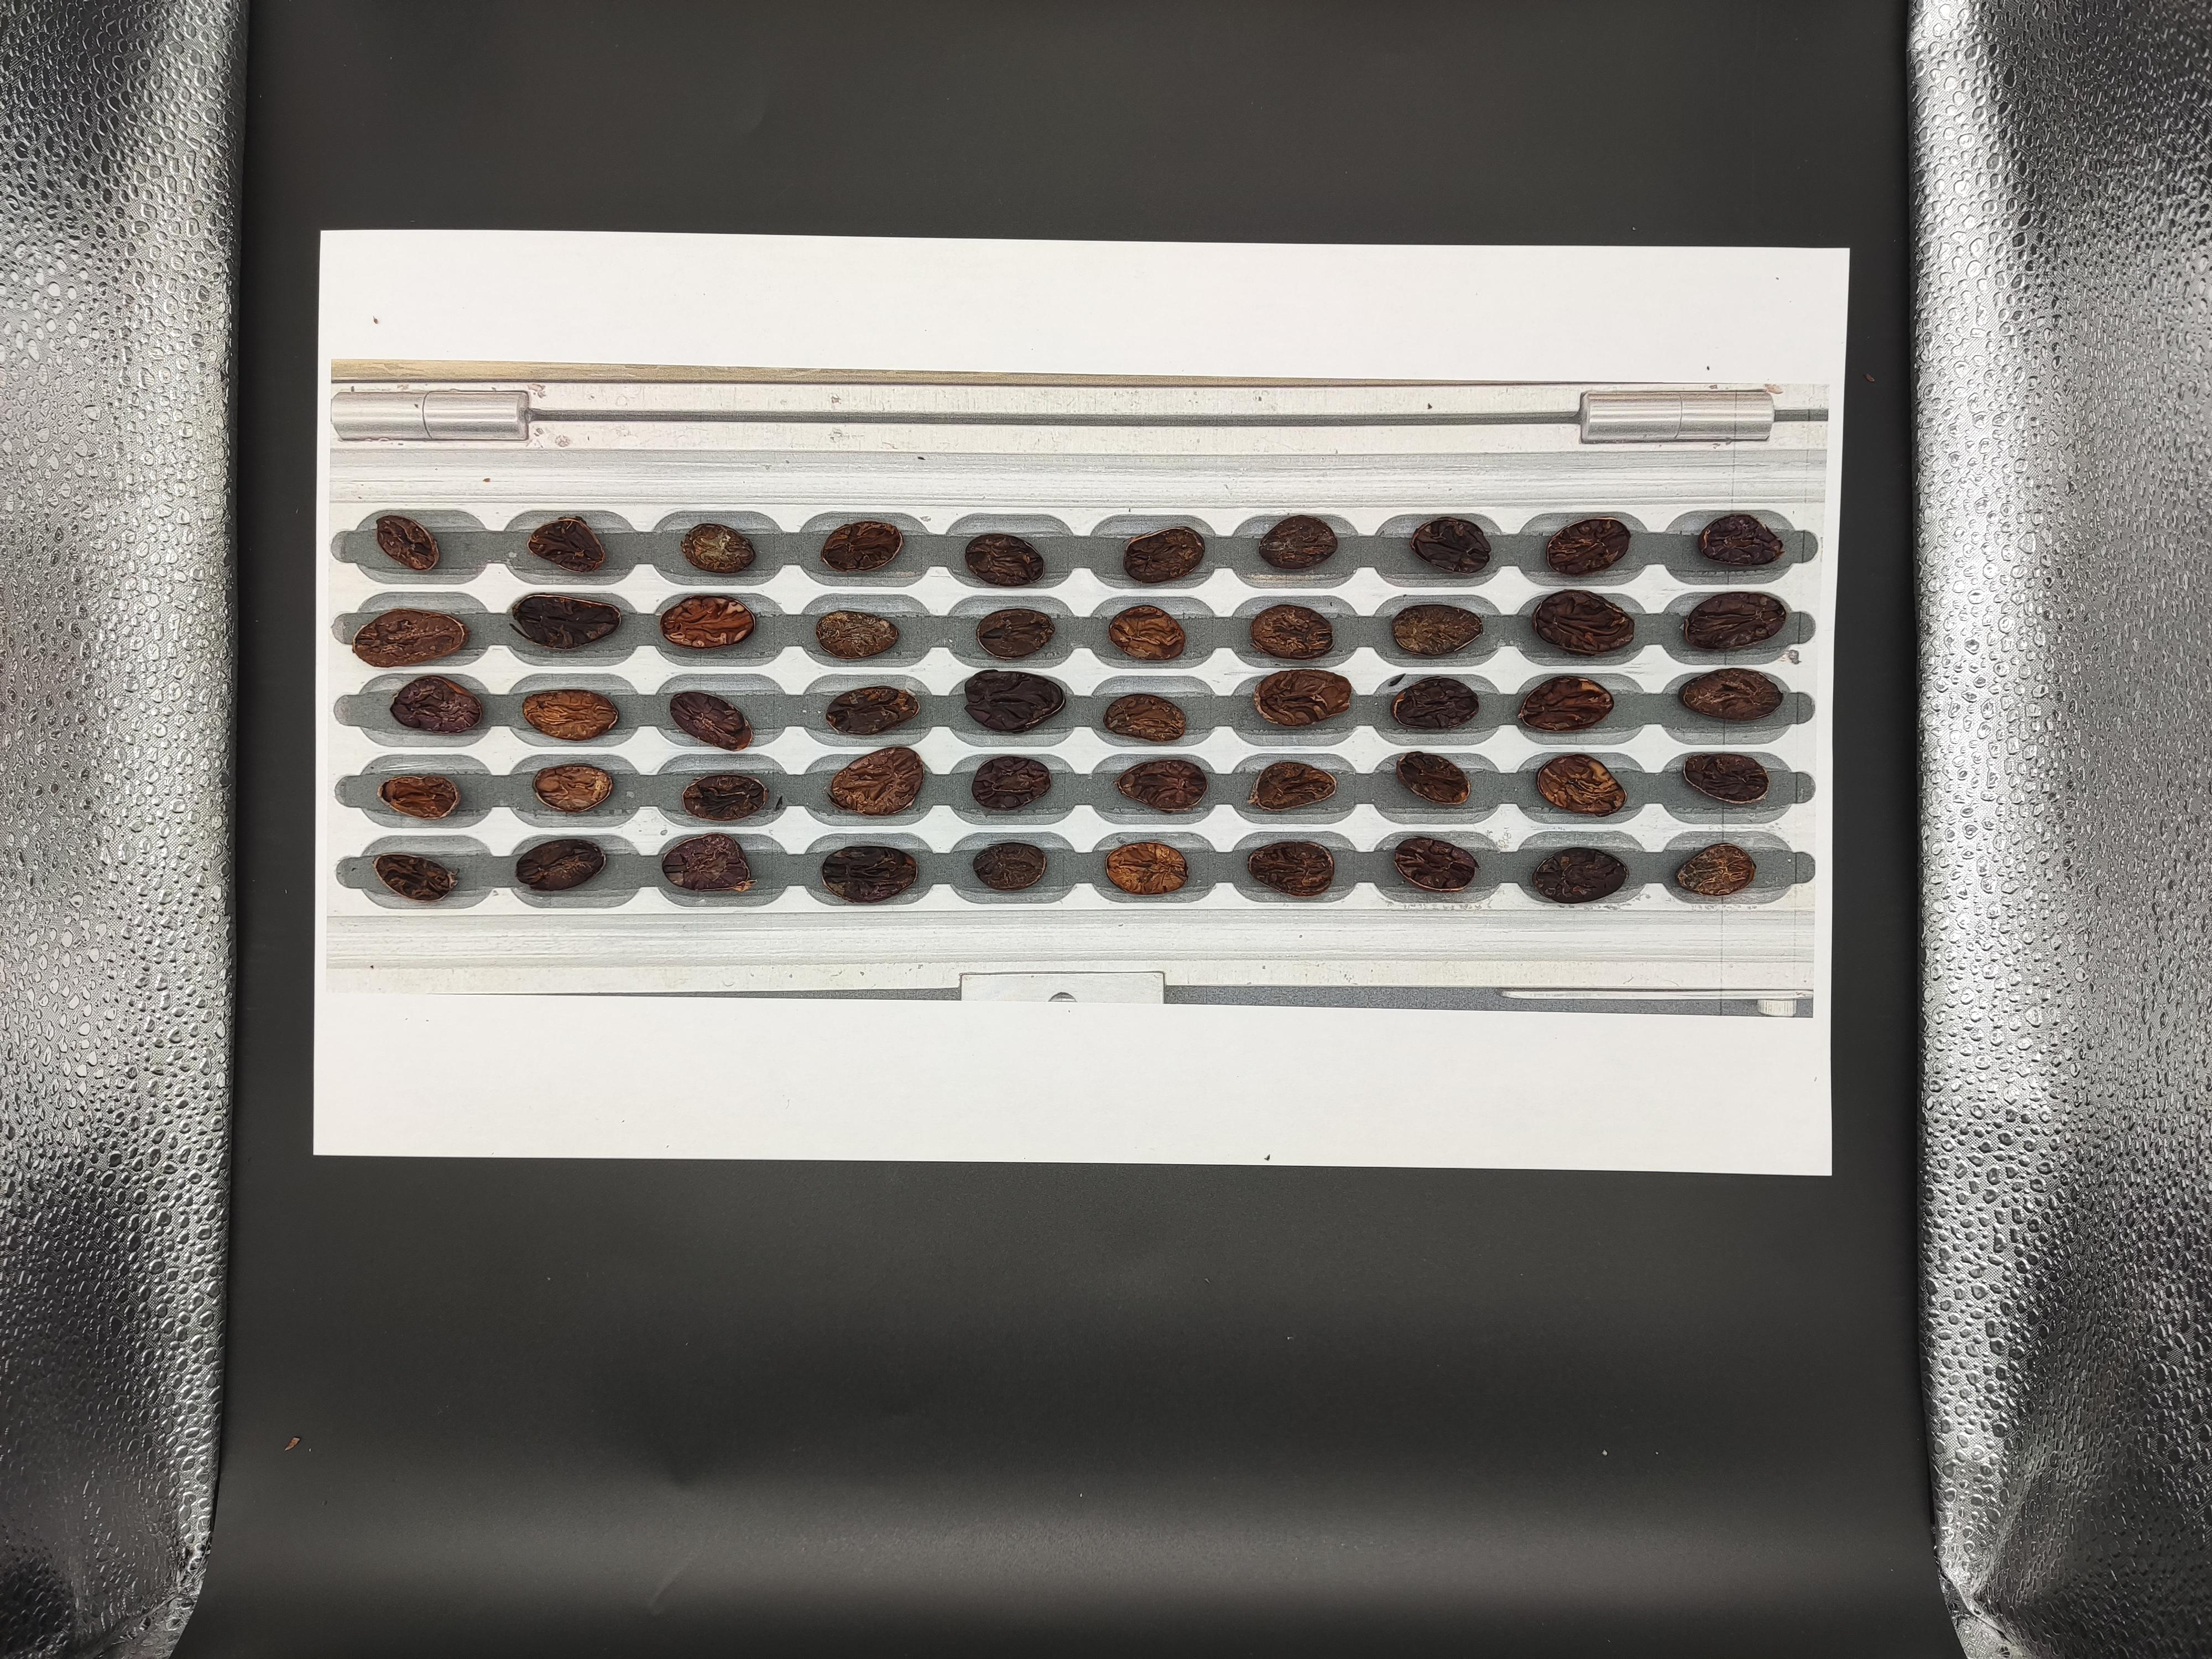Brown - G1: (1862, 1110, 1921, 1152), (1855, 1154, 1911, 1188), (1416, 1114, 1472, 1147)
Brown - G2: (1862, 1192, 1916, 1232), (1503, 1192, 1557, 1232), (1721, 1152, 1777, 1185), (1717, 1197, 1771, 1230), (1716, 1237, 1766, 1272), (1871, 1072, 1916, 1110), (1498, 1073, 1545, 1110), (1649, 1195, 1700, 1229), (1792, 1192, 1836, 1225), (1646, 1119, 1689, 1152)
Brown - G3: (1939, 1152, 1996, 1183), (1653, 1075, 1700, 1112), (1717, 1117, 1766, 1152), (1642, 1239, 1693, 1272), (1641, 1162, 1693, 1194), (1576, 1119, 1622, 1152), (1364, 1161, 1400, 1192), (1364, 1197, 1397, 1230)
Insect-damaged: (1791, 1115, 1844, 1150)
Mouldy: (1935, 1239, 1984, 1272), (1494, 1121, 1545, 1152), (1723, 1072, 1768, 1107), (1428, 1075, 1470, 1110), (1576, 1239, 1618, 1272)
Partly Purple - G1: (1568, 1150, 1630, 1188), (1791, 1236, 1839, 1272)
Partly Purple - G2: (1496, 1239, 1554, 1277), (1939, 1112, 1996, 1147), (1575, 1195, 1623, 1230), (1789, 1155, 1843, 1187), (1426, 1202, 1474, 1234), (1364, 1112, 1400, 1147)
Partly Purple - G3: (1420, 1157, 1468, 1199)
Total Purple - G2: (1946, 1070, 1996, 1105)
Total Purple - G3: (1418, 1232, 1468, 1272)
Very Dark Brown - G2: (1799, 1072, 1848, 1110), (1939, 1192, 1989, 1227), (1573, 1080, 1618, 1115), (1364, 1073, 1395, 1108)
Very Dark Brown - G3: (1864, 1239, 1918, 1276), (1501, 1157, 1554, 1190), (1364, 1237, 1395, 1270)
